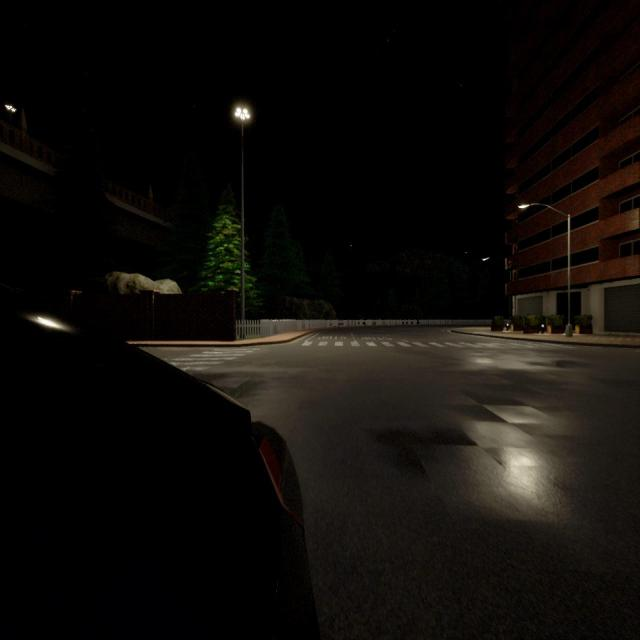Vehicle: (0, 290, 318, 640)
